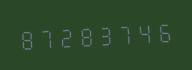eight: (17, 24, 36, 53), (77, 20, 96, 49)
four: (137, 17, 156, 46)
seven: (37, 23, 56, 52), (117, 18, 136, 47)
six: (157, 16, 176, 45)
three: (97, 19, 116, 48)
two: (57, 22, 76, 51)
